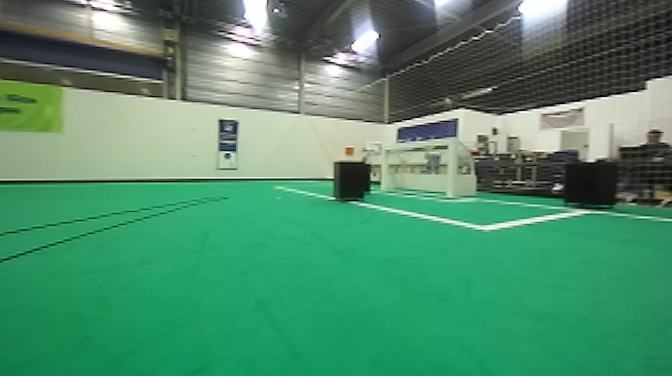goalpost: (441, 137, 457, 198), (380, 146, 393, 192)
